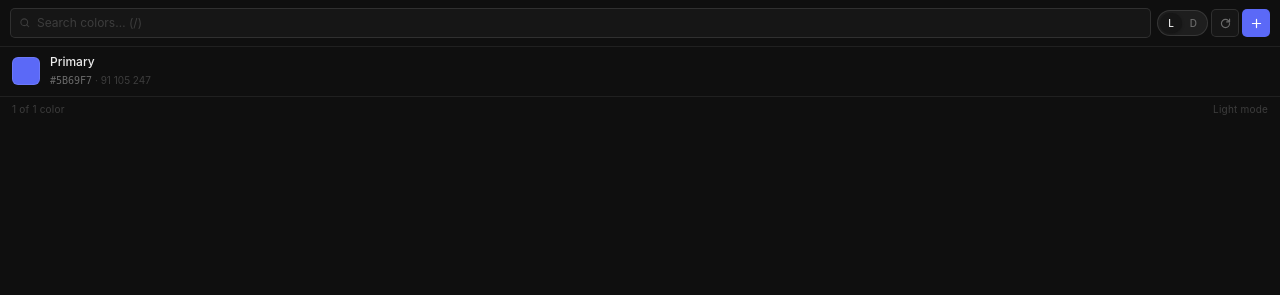
ColorTab › opens the add form when + button is clicked
Check: the text "Primary" is shown, box [50,54,95,69]
Click the button titled "Add color".
click(1256, 23)  # box [1242,9,1270,37]
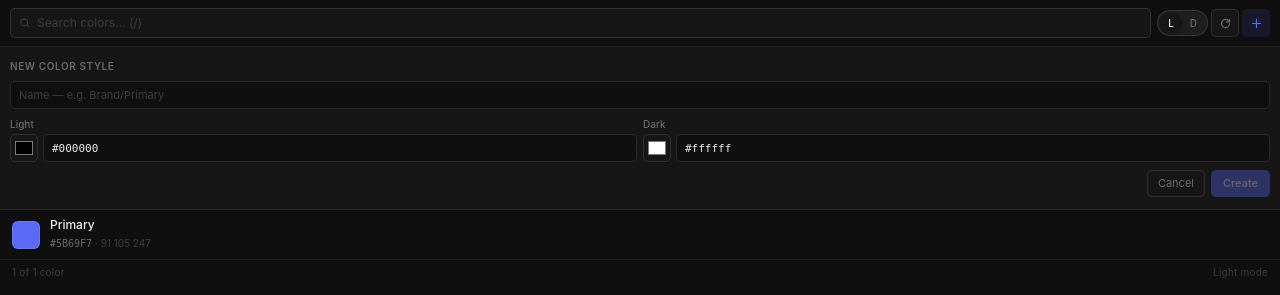
Check: the text "New Color Style" is shown, box [10,60,114,72]
